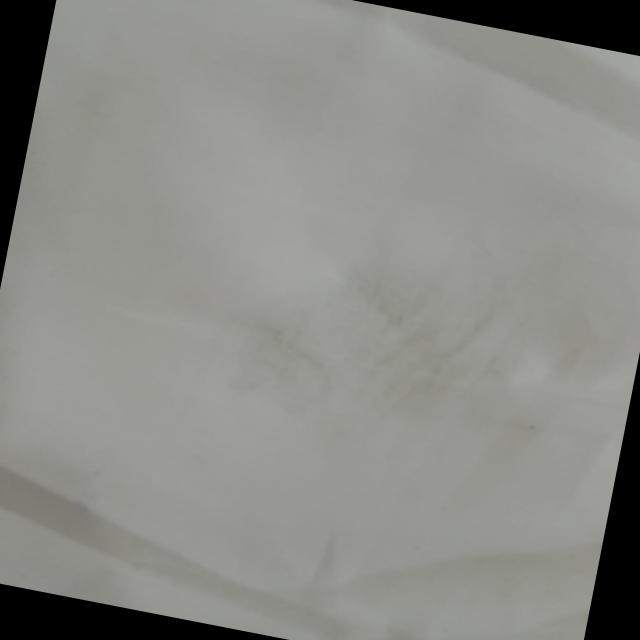stain: (214, 228, 522, 441)
